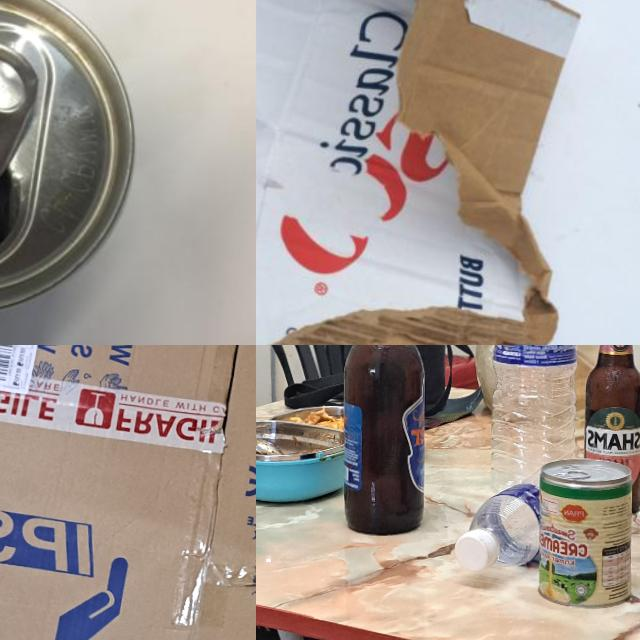aba de lata: (0, 40, 40, 191), (552, 468, 590, 479)
garrafa de vidro: (341, 345, 427, 536), (581, 345, 640, 513)
garrafa plástica: (489, 345, 580, 496), (468, 467, 540, 566)
lata: (0, 0, 139, 317), (536, 458, 634, 608)
papelão: (256, 0, 586, 345), (0, 345, 256, 640)
tampa plástica: (453, 528, 498, 572)
